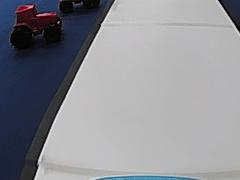Tracktor: (9, 1, 64, 47)
